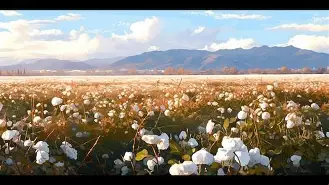crops: (0, 75, 323, 175), (0, 45, 323, 72)
